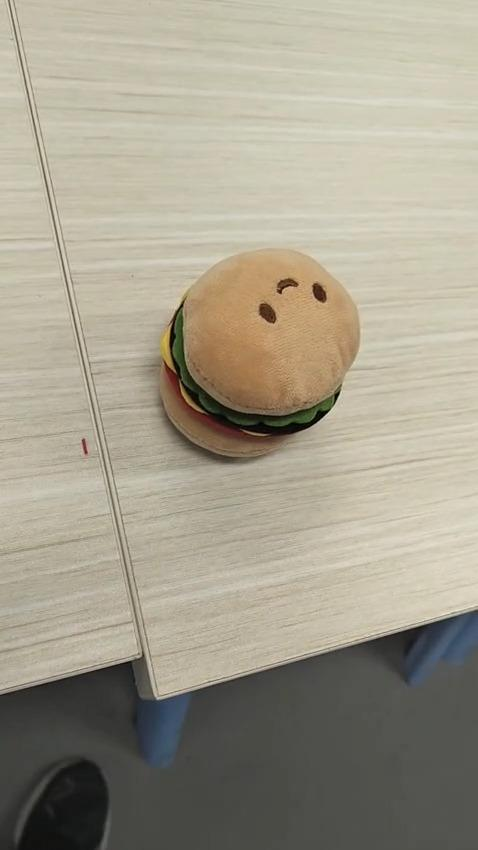hamburger: (157, 246, 361, 459)
